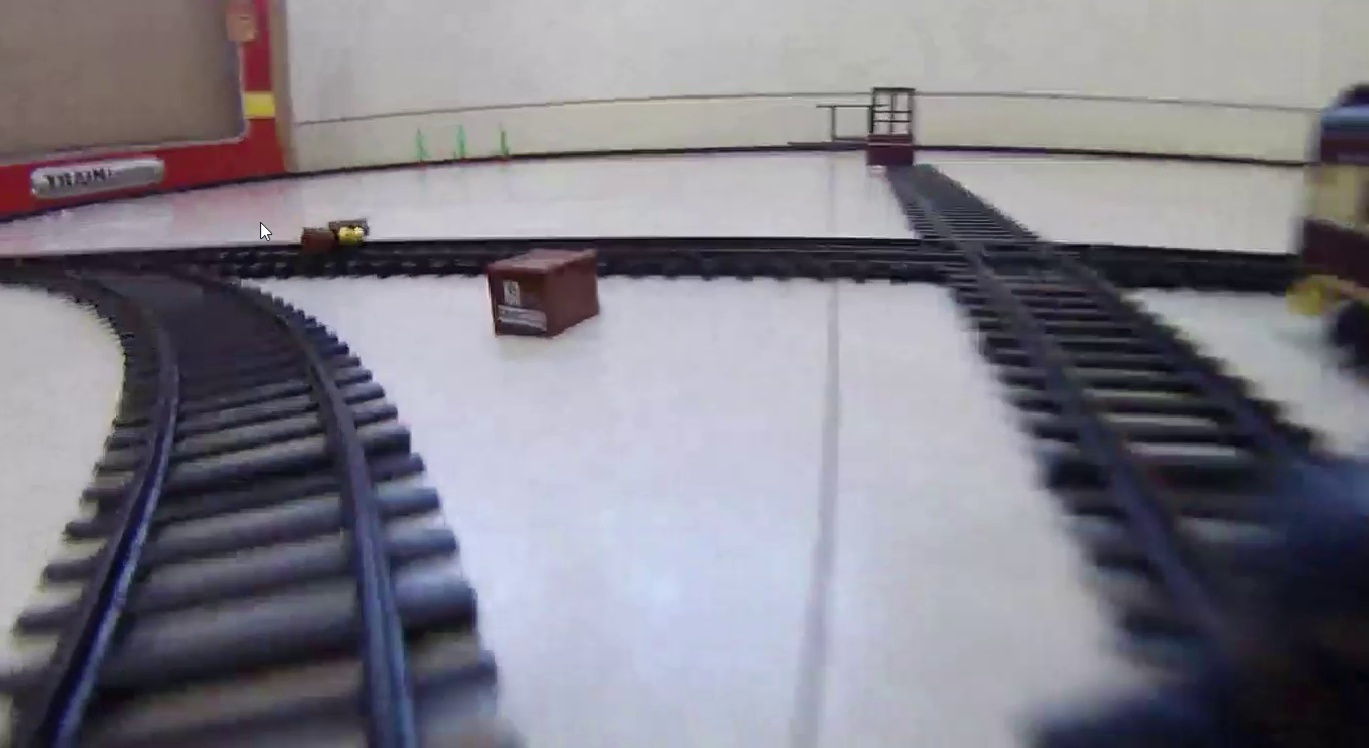box: (492, 245, 600, 337)
